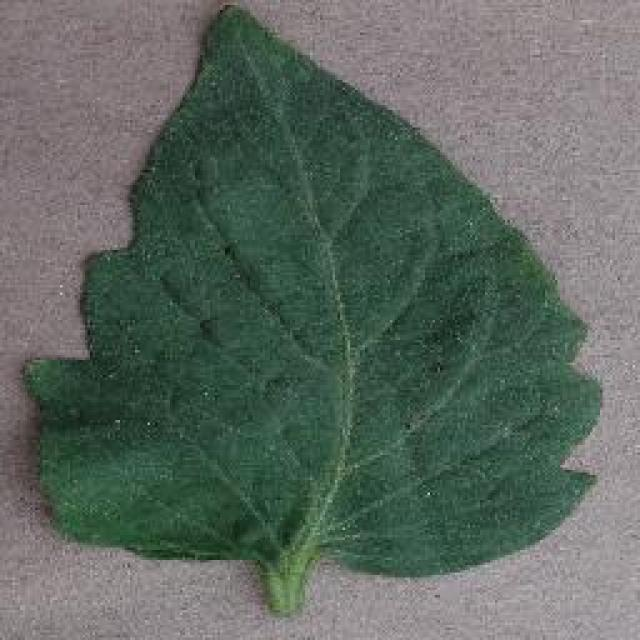Tomato bacterial spot leaf: (36, 5, 596, 597)
